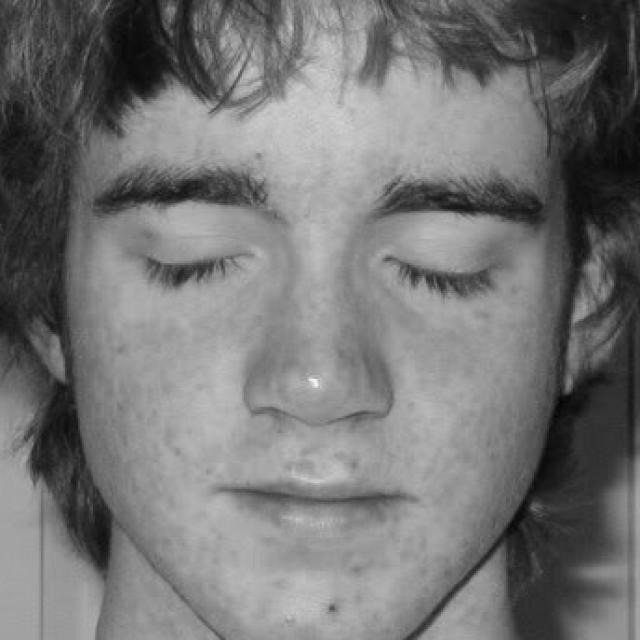real: (68, 4, 564, 640), (120, 222, 504, 322)
